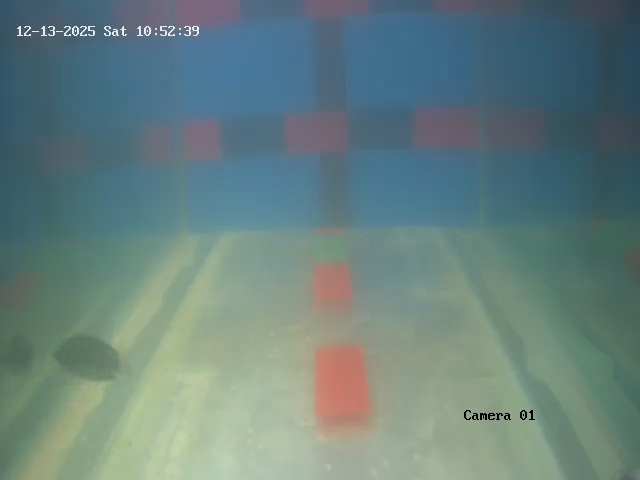fish: (46, 321, 123, 388)
